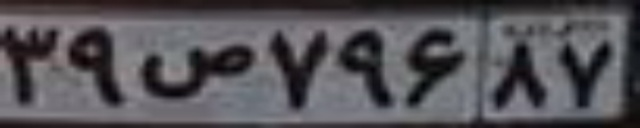3: (2, 24, 63, 104)
6: (397, 29, 466, 108)
7: (268, 27, 333, 109), (553, 38, 617, 109)
8: (483, 39, 551, 108)
9: (64, 24, 128, 106), (337, 29, 392, 111)
saat: (136, 42, 255, 100)
